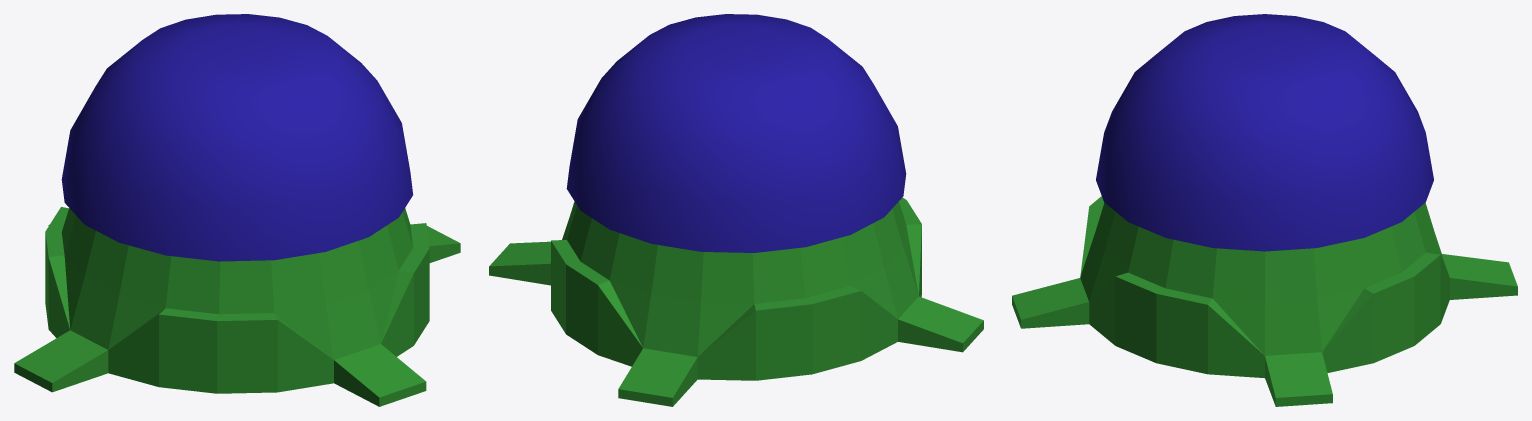
File: Klaxon Light.FBX
The picture shows the model from 3 angles, left to right: view 1: azimuth 30°, elevation 25°; view 2: azimuth 150°, elevation 25°; view 3: azimuth 270°, elevation 25°; orthographic projection. The views are drawn at different scales.
Parts seen in each view (by area): view 1: Sphere001; view 2: Sphere001; view 3: Sphere001.
Boxes of the visible parts, x1=… form: Sphere001: x1=14, y1=14, x2=460, y2=406; Sphere001: x1=489, y1=14, x2=983, y2=406; Sphere001: x1=1012, y1=14, x2=1517, y2=406.
Size of the model in its own units: 23.55 by 13.03 by 23.55.
